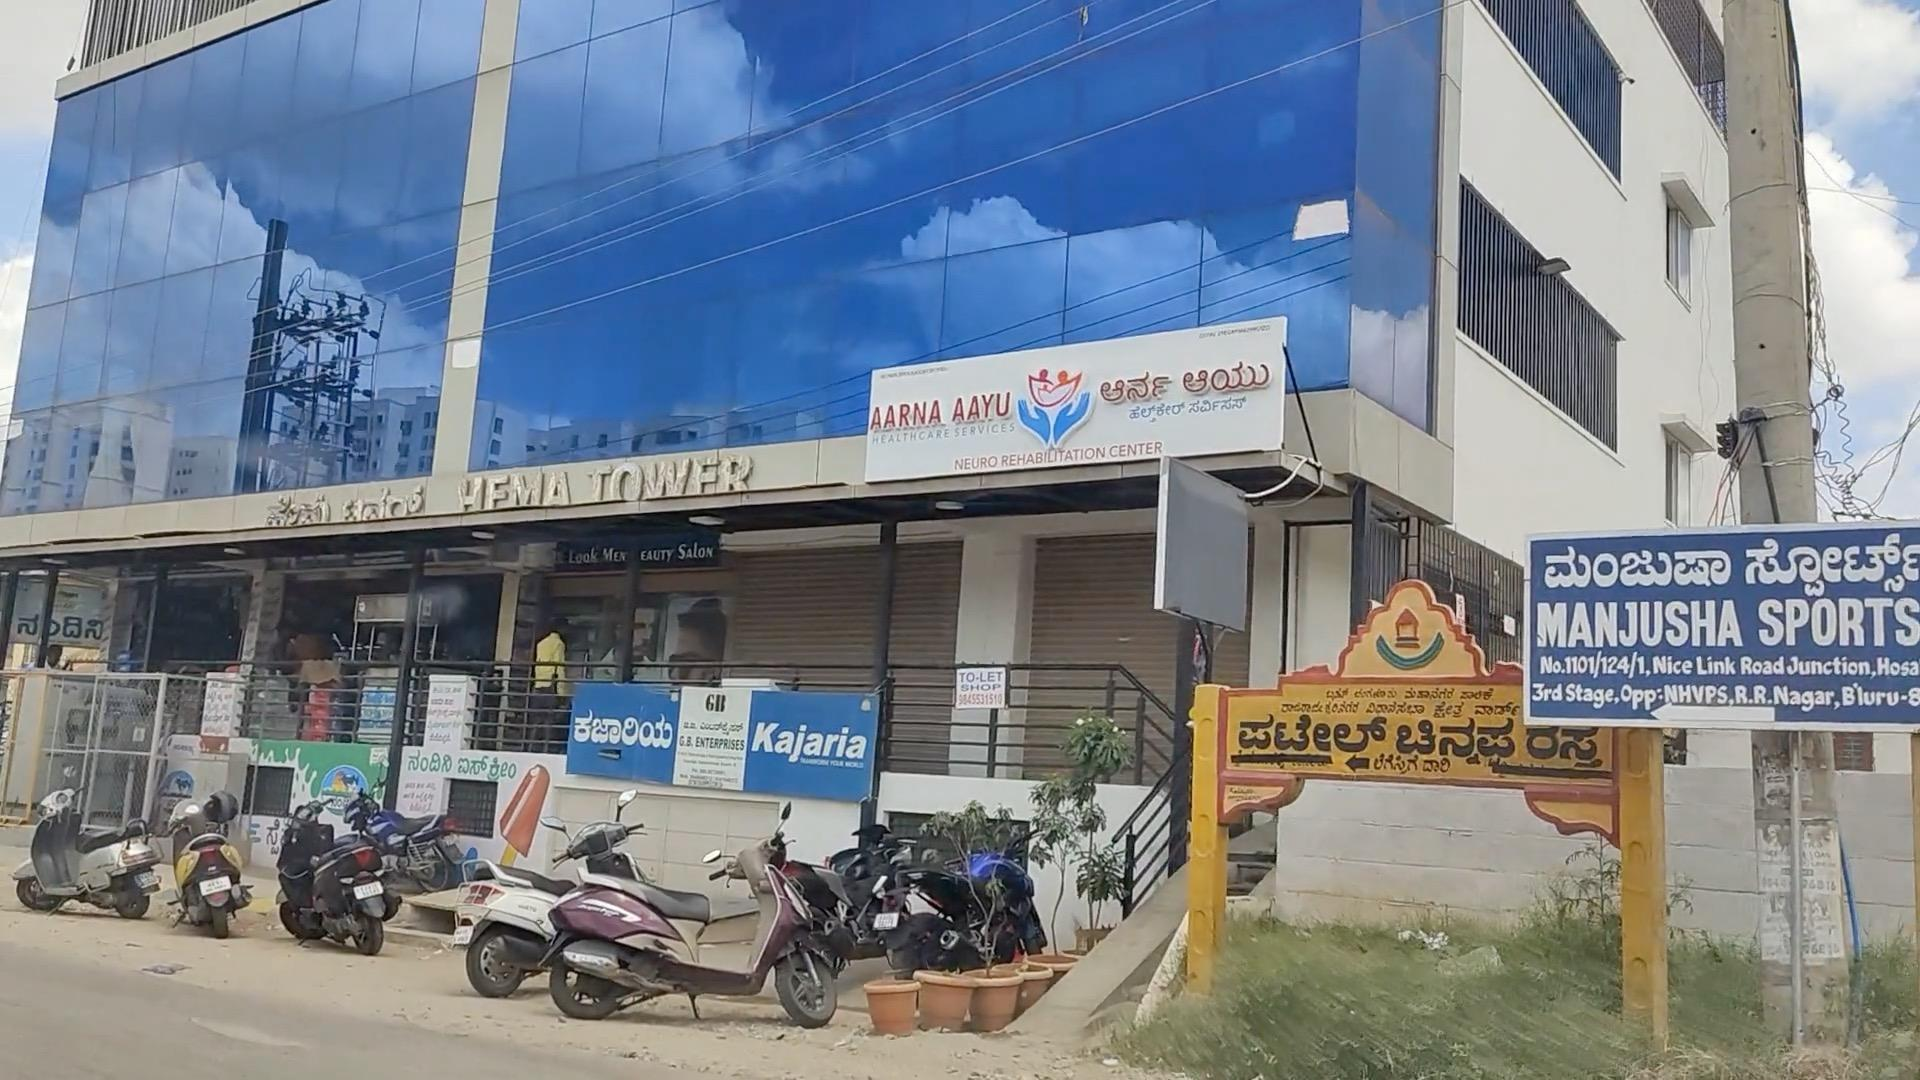LMV: (575, 843, 837, 1021), (257, 787, 390, 963), (30, 793, 150, 927), (170, 787, 252, 910)
RoadDamages: (182, 993, 338, 1080)
